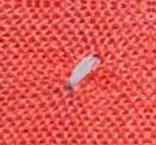hole: (66, 51, 103, 89)
